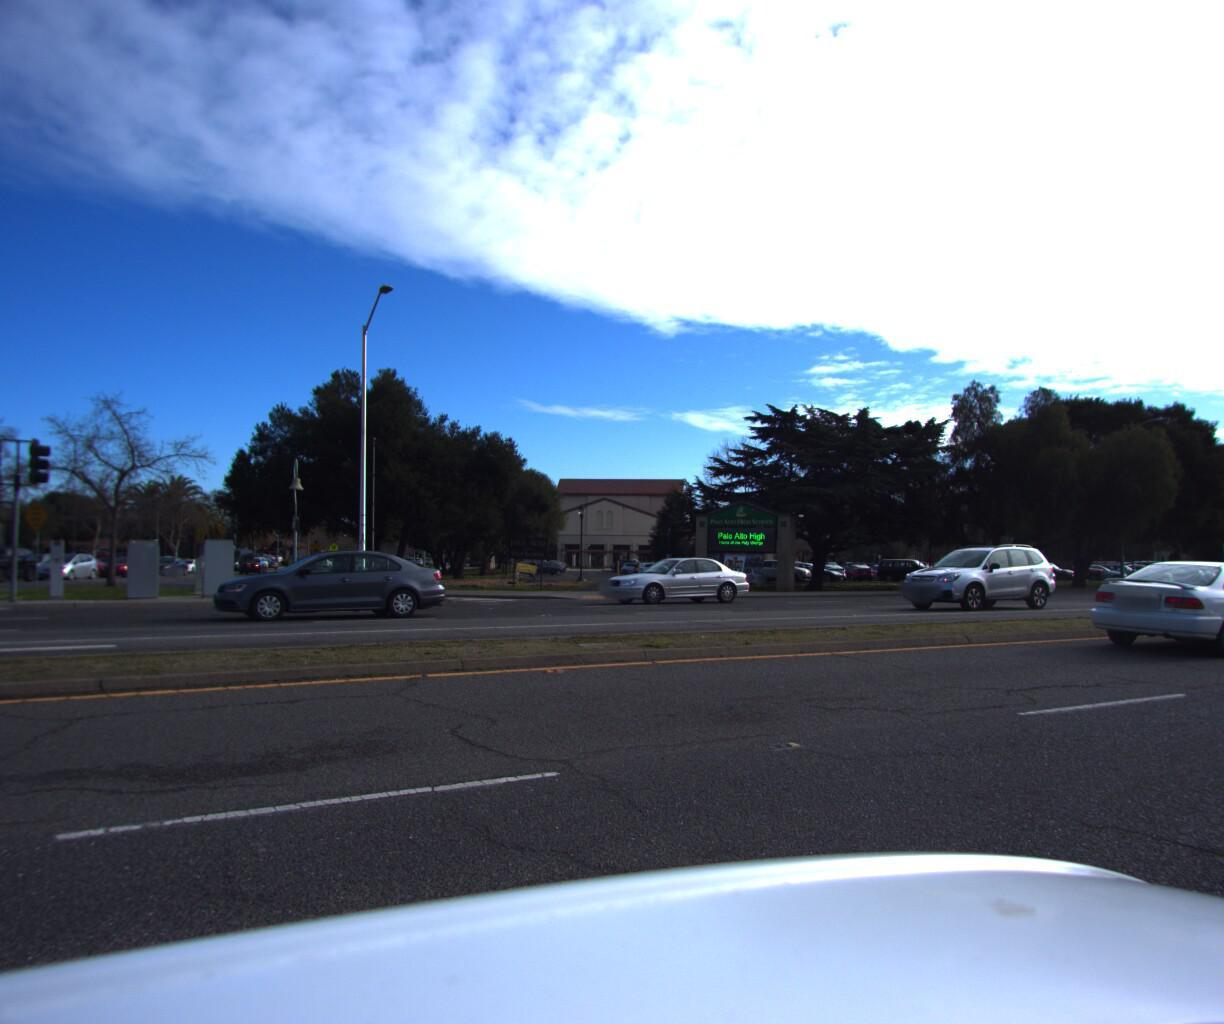car: (194, 538, 450, 621), (1082, 548, 1224, 664), (896, 540, 1056, 606), (597, 552, 757, 603), (29, 548, 101, 576), (0, 544, 44, 581), (93, 550, 152, 573), (144, 550, 190, 573), (239, 551, 269, 570)
